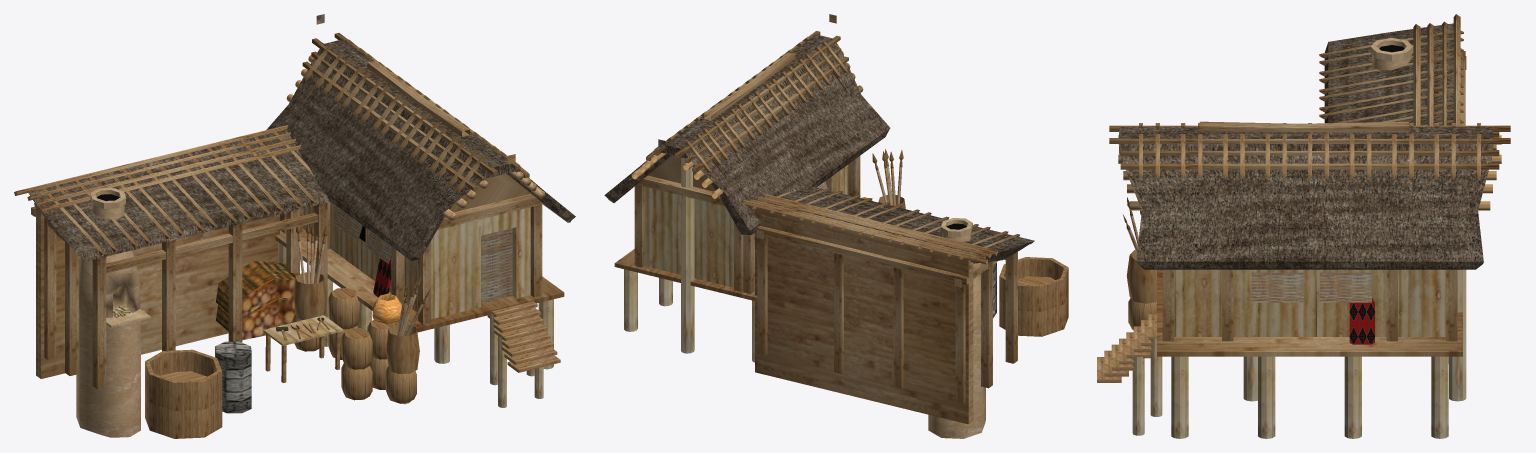
Rendered from yayoi_forge.dae.
3 views of the same model, side by side, from view 1: azimuth 30°, elevation 25°; view 2: azimuth 150°, elevation 25°; view 3: azimuth 270°, elevation 25° (orthographic). The views are drawn at different scales.
Parts seen in each view (by area): view 1: forge; view 2: forge; view 3: forge.
Boxes of the visible parts, x1,y1,x2,y2 form: forge: (14,14,575,438); forge: (604,14,1068,438); forge: (1097,14,1510,438).
Size of the model in its own units: 21.68 by 17.33 by 14.82.
1 material, 1 textured.
